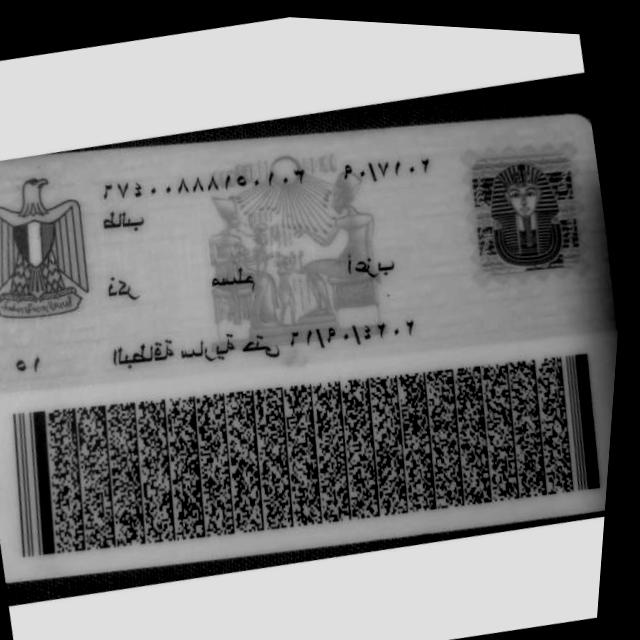back: (0, 113, 618, 579)
